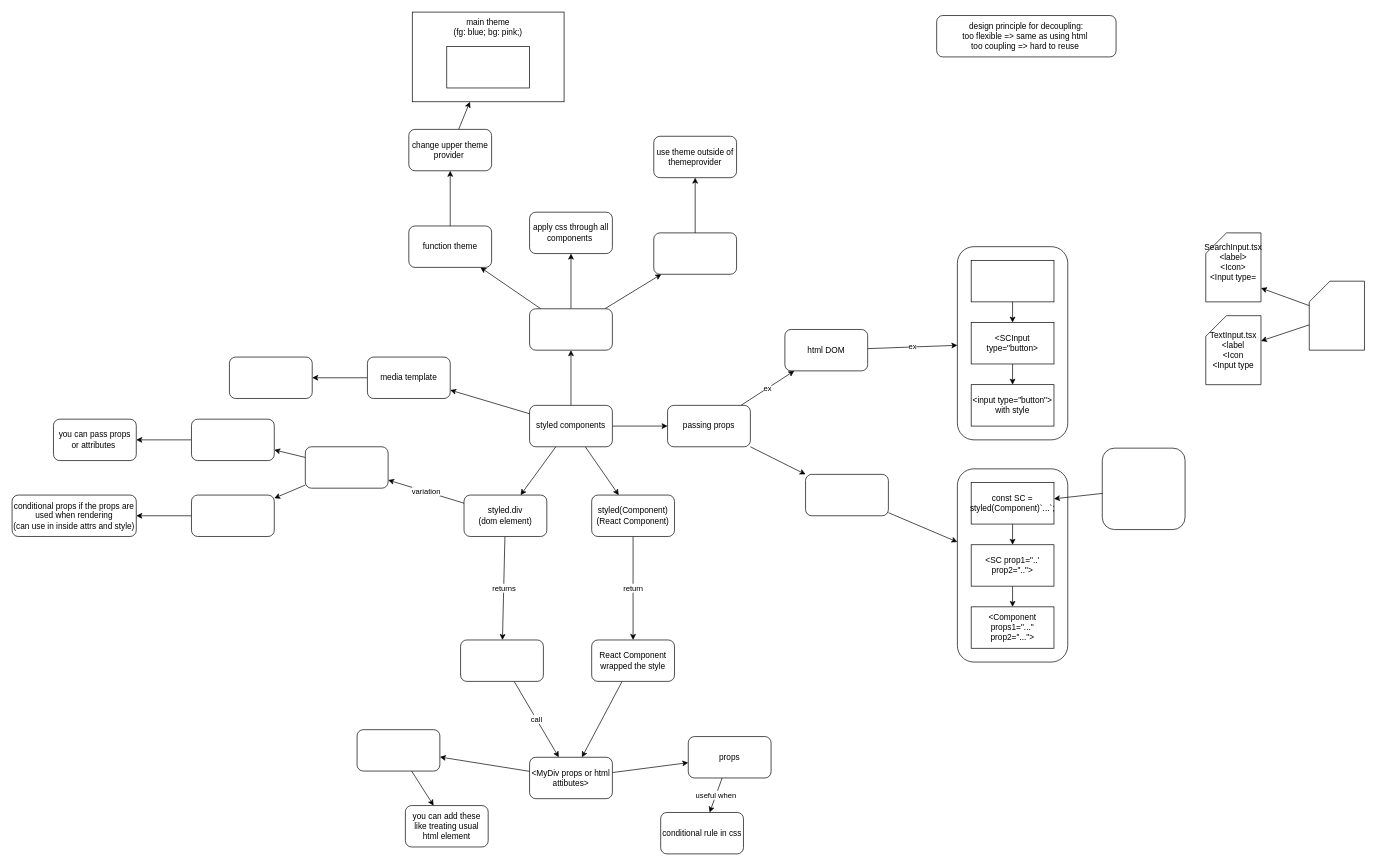
Image size: 1377x866. Some labels were removed from this diagram. Each missing label, with the box of its shape:
Component: (805, 474, 888, 516)
const SCInput = styled.iput`...`;: (970, 260, 1054, 302)
create media (responsive) template rather than define each element: (229, 356, 312, 398)
dynamic: (191, 494, 274, 536)
html attributes: (356, 729, 440, 771)
Input.tsx styled.input`...`: (1309, 280, 1364, 350)
interface Props { prop1: ...; prop2: ...; } class Component {...}: (1102, 447, 1185, 530)
invertTheme (fg, bg) => fg: bg bg: fg: (446, 46, 530, 88)
React Component which render 'div' with css (MyDiv): (460, 639, 543, 681)
static: (191, 418, 274, 461)
styled.div.attrs: (305, 446, 388, 488)
theme provider: (529, 308, 612, 350)
withTheme: (653, 232, 737, 274)
